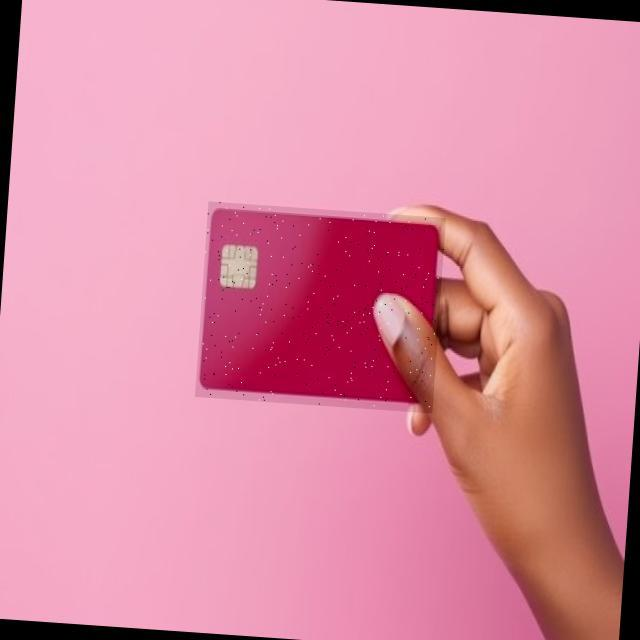payment_card: (194, 200, 440, 408)
